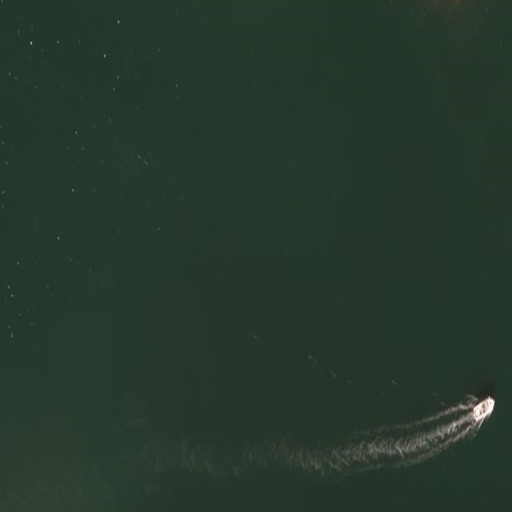ship: (470, 394, 497, 424)
